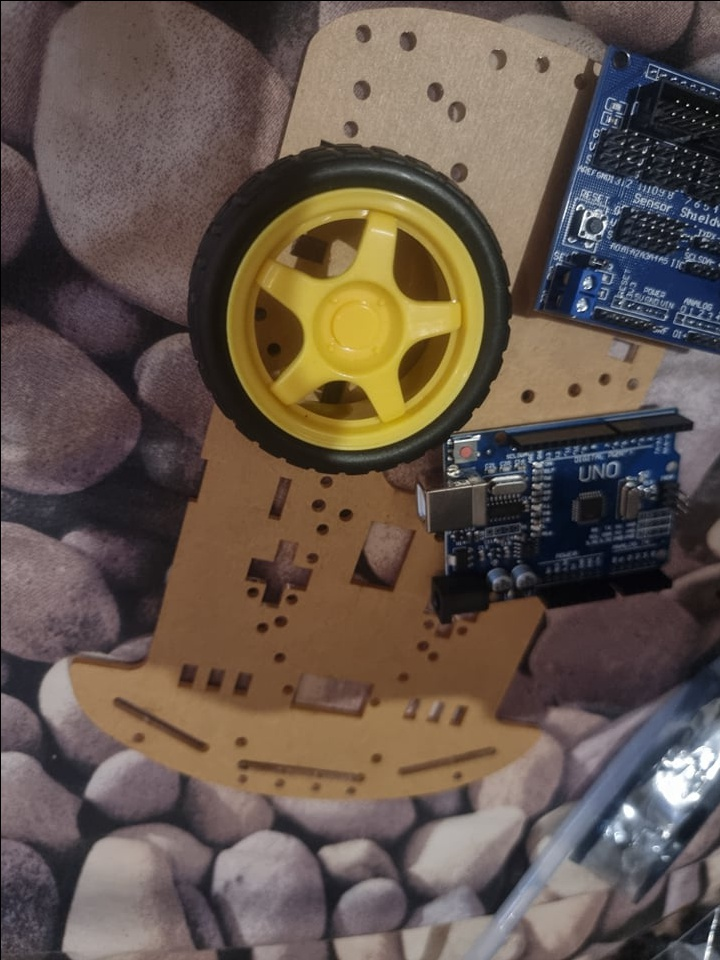5V EXPANSION: (525, 37, 719, 356)
UNO R3: (421, 404, 692, 618)
